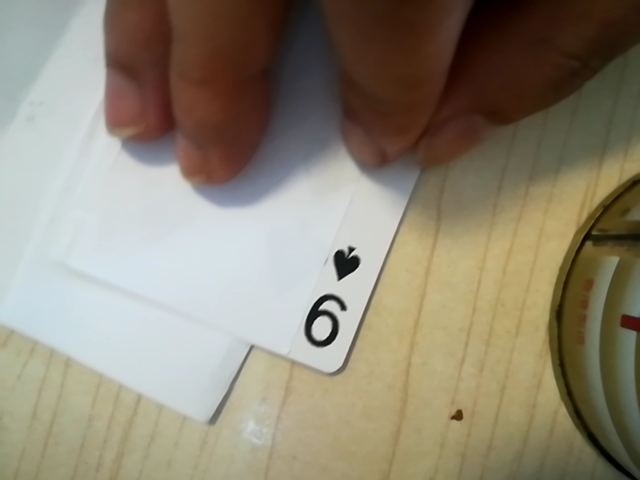ht 9: (295, 229, 373, 363)
